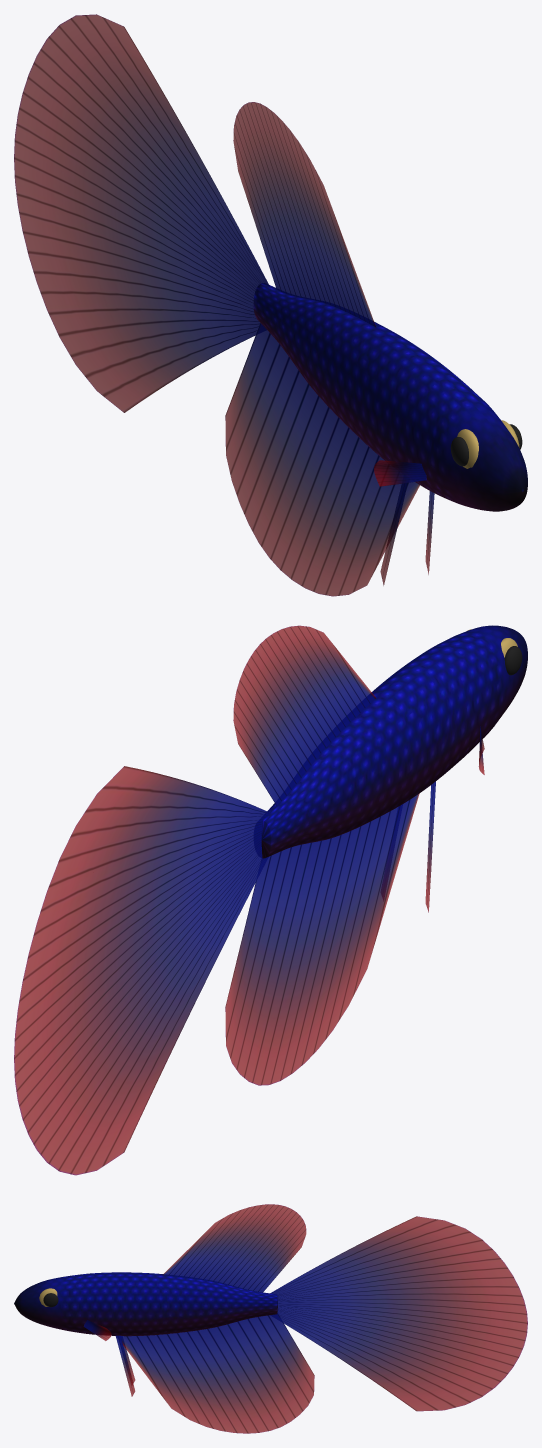
File: betta_1.glb
3 renders of one model, top to bottom at view 1: azimuth 30°, elevation 25°; view 2: azimuth 150°, elevation 25°; view 3: azimuth 270°, elevation 25°, orthographic. The views are drawn at different scales.
Parts seen in each view (by area): view 1: fins, body; view 2: fins, body; view 3: fins, body.
Boxes of the visible parts, box(x1,y1,x2,y2) form: fins: box(14, 14, 434, 596); body: box(253, 283, 527, 511); fins: box(14, 625, 484, 1175); body: box(261, 625, 527, 858); fins: box(83, 1204, 527, 1433); body: box(14, 1272, 277, 1336).
Bounding box in the file's own units: 0.1448 × 0.5999 × 1.22.
Materials: 4 (2 with a texture image).
